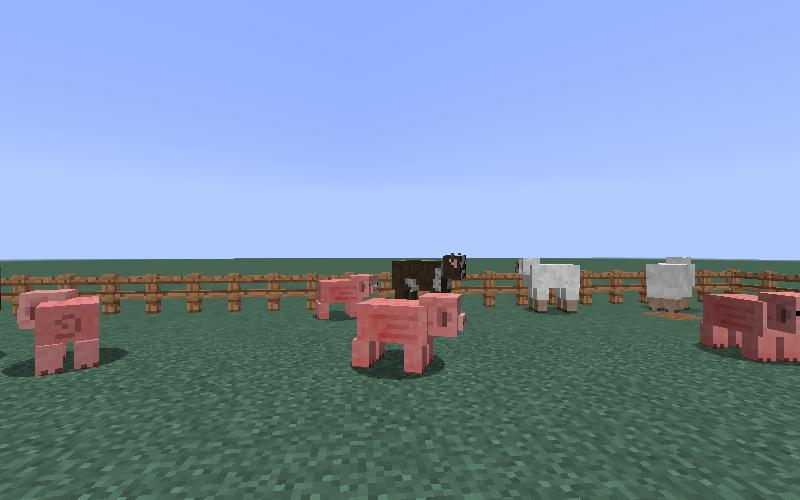cow: (391, 252, 467, 294)
pig: (349, 292, 467, 378), (696, 286, 800, 368), (12, 286, 102, 380)
sheep: (515, 254, 584, 318), (641, 252, 698, 318)
